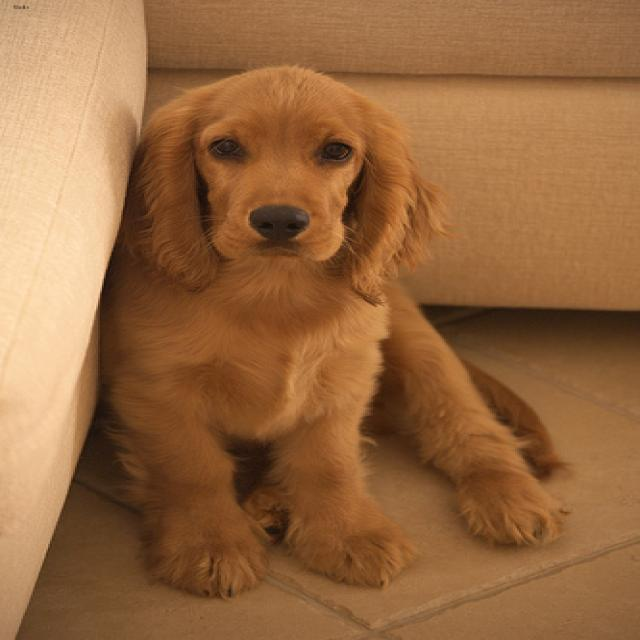dog-english_cocker_spaniel: (85, 54, 578, 608)
